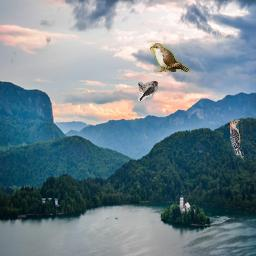Cuckoo: (150, 43, 190, 72)
Swallow: (138, 81, 158, 101)
Woodpecker: (230, 119, 244, 159)
